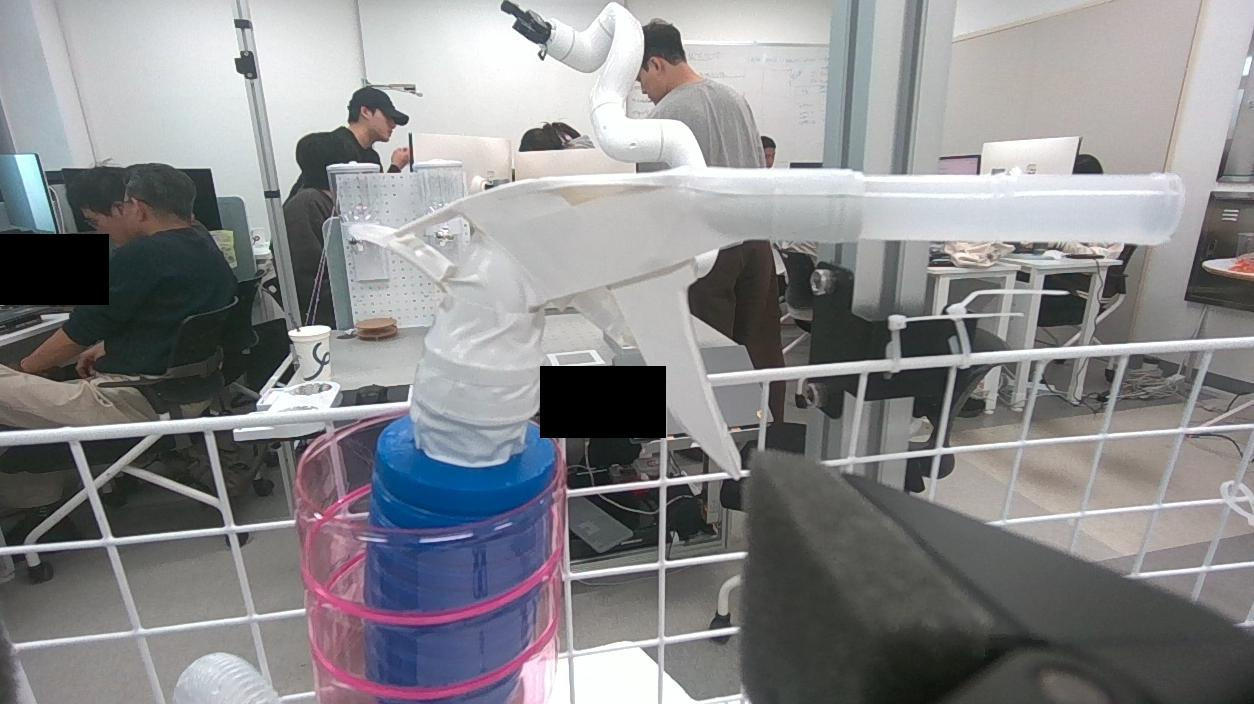Nozzle: (338, 141, 865, 704)
